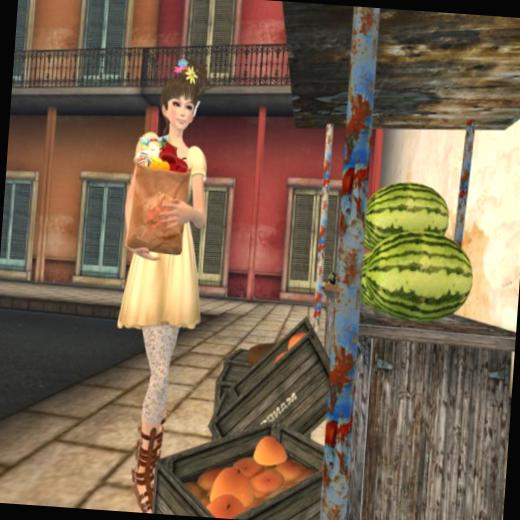Cherry: (364, 226, 477, 325), (360, 177, 451, 250), (356, 252, 379, 307)
